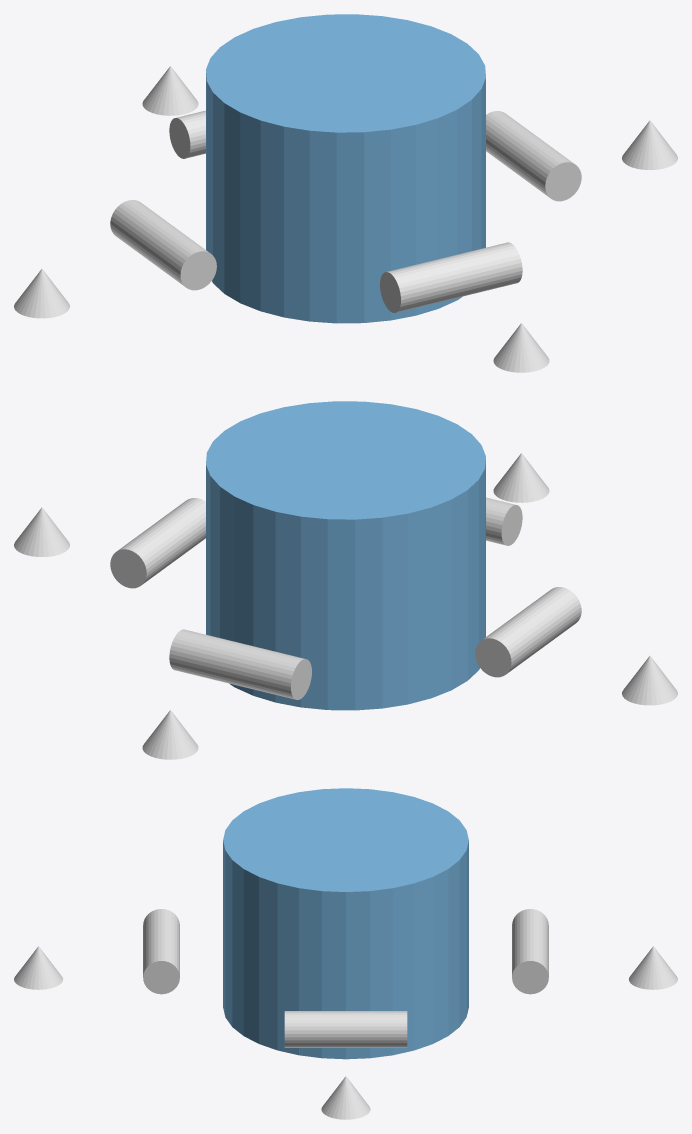
File: irrigation_system.glb
The picture shows the model from 3 angles, top to bottom: view 1: azimuth 30°, elevation 25°; view 2: azimuth 150°, elevation 25°; view 3: azimuth 270°, elevation 25°; orthographic projection. The views are drawn at different scales.
Visible parts, largest first — view 1: Cylinder, Cylinder.004, Cylinder.003, Cylinder.001, Cone.003, Cone.001, Cone.002, Cone, Cylinder.002; view 2: Cylinder, Cylinder.002, Cylinder.003, Cylinder.001, Cone.001, Cone.003, Cone.002, Cone, Cylinder.004; view 3: Cylinder, Cylinder.001, Cylinder.002, Cylinder.004, Cone, Cone.001, Cone.003.
Boxes of the visible parts, x1,y1,x2,y2 form: Cylinder: (206,14,485,323); Cylinder.004: (380,242,522,312); Cylinder.003: (110,200,216,290); Cylinder.001: (486,111,581,201); Cone.003: (493,323,549,372); Cone.001: (142,66,198,115); Cone.002: (14,269,69,318); Cone: (622,120,677,169); Cylinder.002: (169,110,205,158); Cylinder: (206,401,485,710); Cylinder.002: (169,629,311,699); Cylinder.003: (475,587,581,677); Cylinder.001: (110,498,205,588); Cone.001: (142,710,198,759); Cone.003: (493,453,549,502); Cone.002: (622,656,677,705); Cone: (14,507,69,556); Cylinder.004: (486,497,522,545); Cylinder: (223,788,468,1059); Cylinder.001: (284,1011,407,1047); Cylinder.002: (512,909,548,994); Cylinder.004: (143,909,179,994); Cone: (321,1076,370,1119); Cone.001: (629,946,677,989); Cone.003: (14,946,62,989).
Size of the model in its own units: 0.54 by 0.15 by 0.54.
